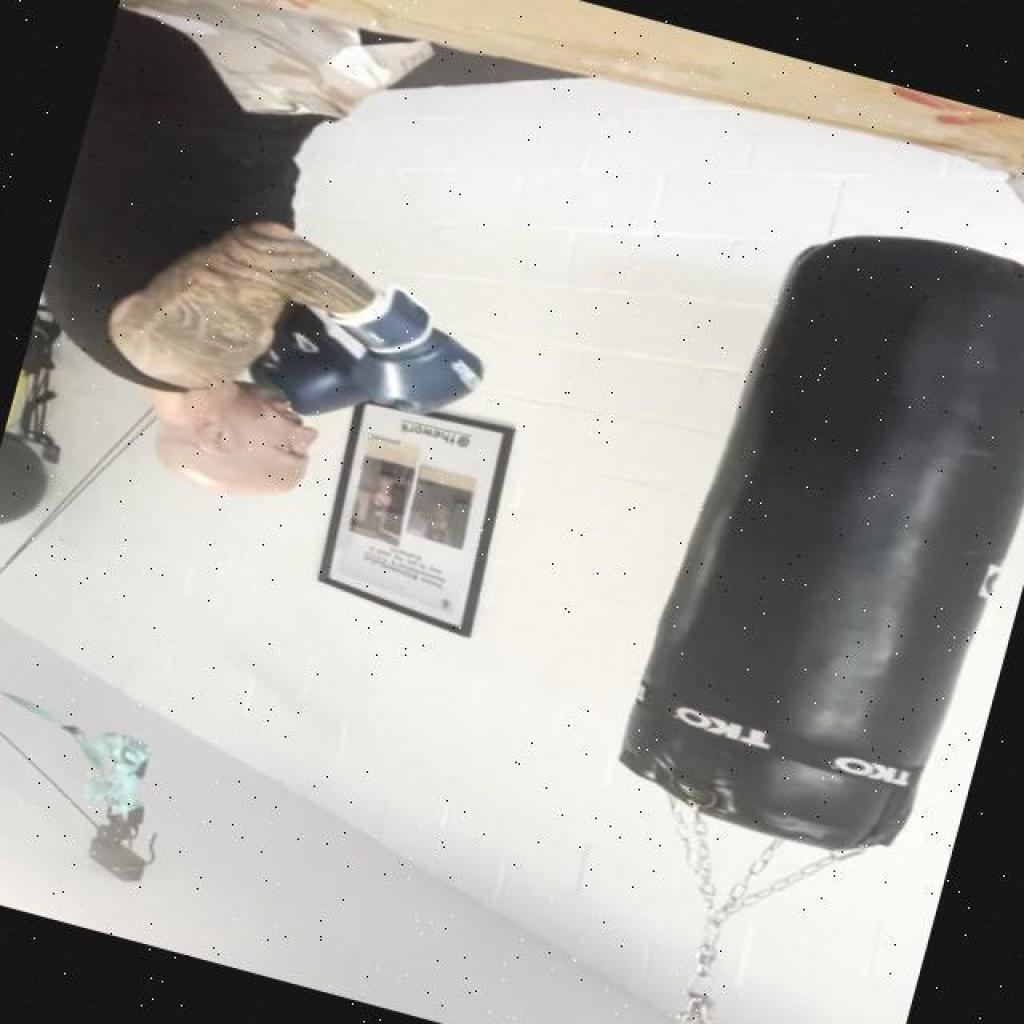bag: (587, 192, 1024, 886)
no punch: (2, 160, 531, 563)
